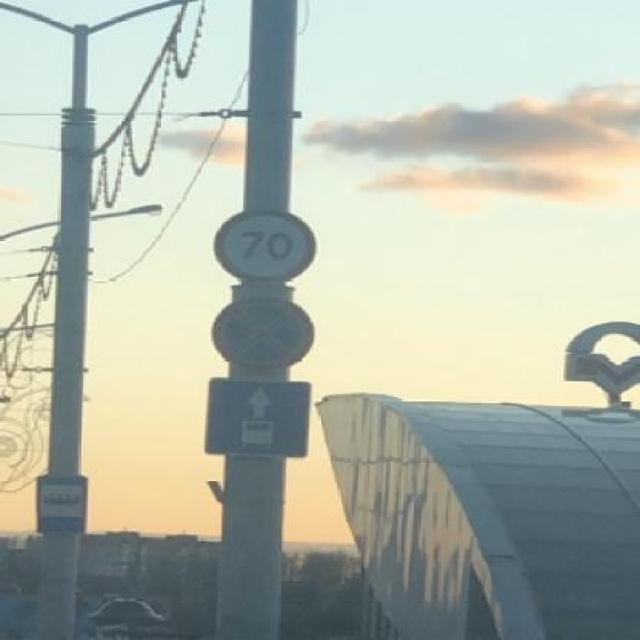forb_speed_over_70: (218, 205, 316, 284)
